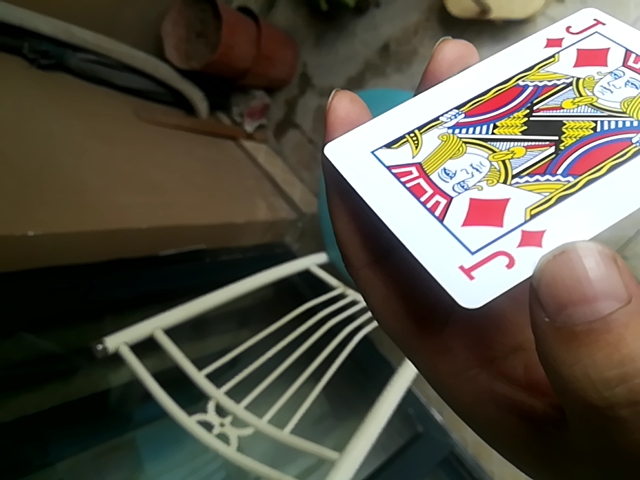fk j: (314, 4, 640, 311)
